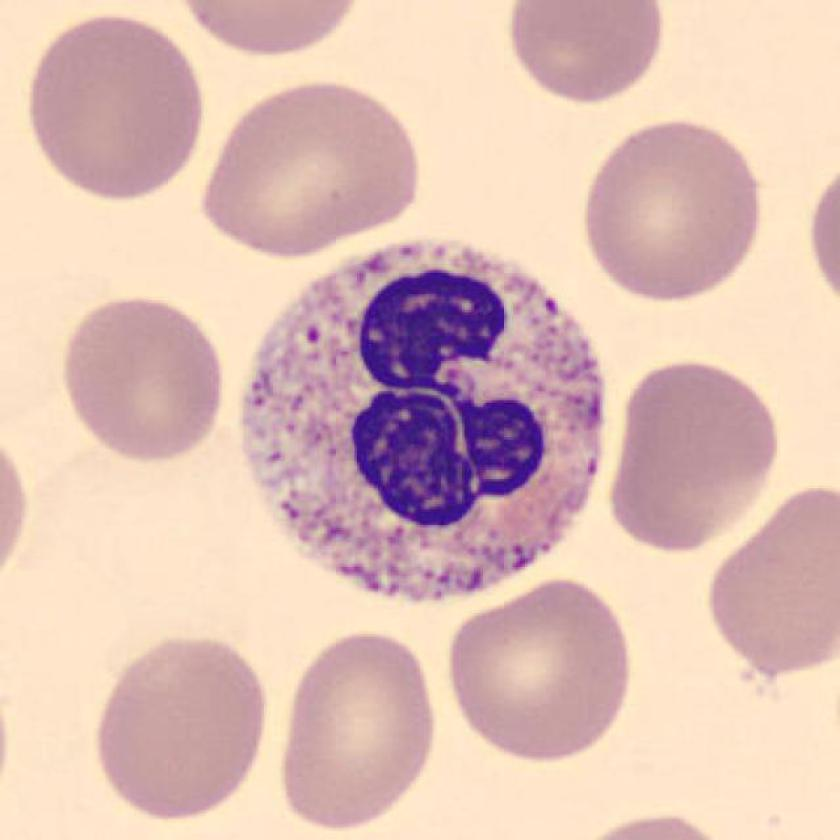neutrophil: (231, 229, 607, 605)
